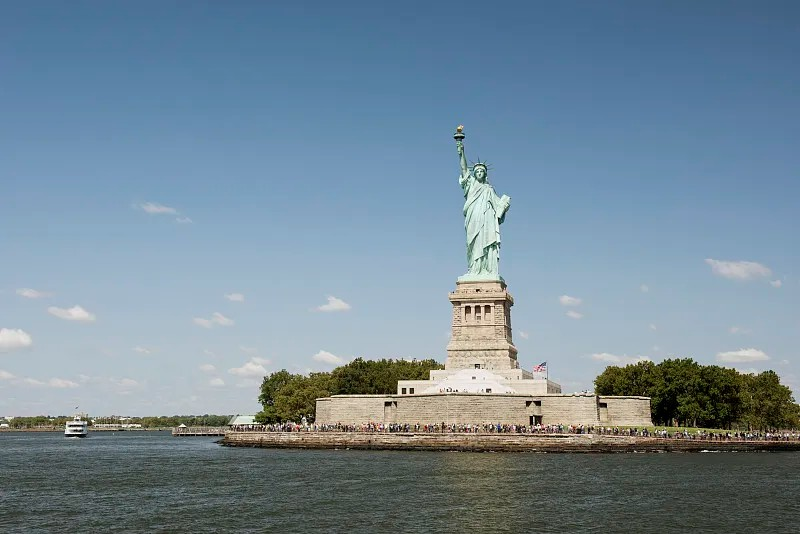SL: (445, 124, 521, 370)
